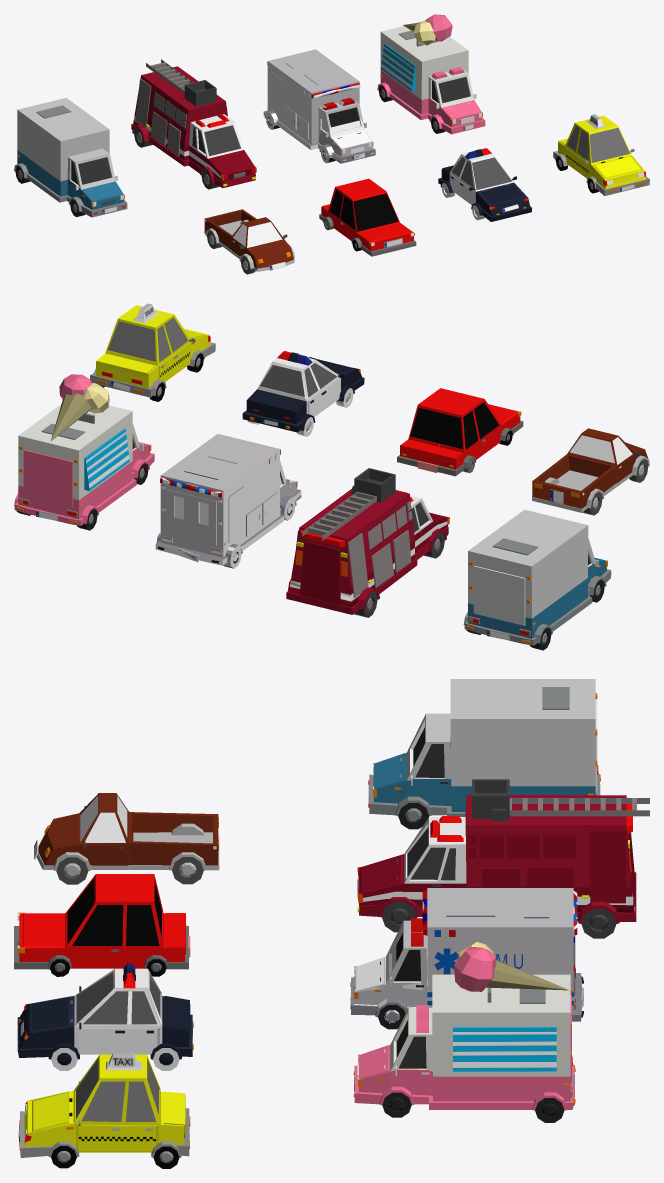
Rendered from 8_Lowpoly_Cars.glb.
The picture shows the model from 3 angles, top to bottom: view 1: azimuth 30°, elevation 25°; view 2: azimuth 150°, elevation 25°; view 3: azimuth 270°, elevation 25°; orthographic projection. The views are drawn at different scales.
Parts seen in each view (by area): view 1: unnamed (×9); view 2: unnamed (×9); view 3: unnamed (×9).
Part boxes in pixels (left/top/right/bottom): unnamed (×9): left=14, top=14, right=649, bottom=274; unnamed (×9): left=14, top=303, right=649, bottom=650; unnamed (×9): left=14, top=679, right=649, bottom=1168.
Size of the model in its own units: 43.02 by 8.36 by 30.33.
Materials: 9 (8 with a texture image).
